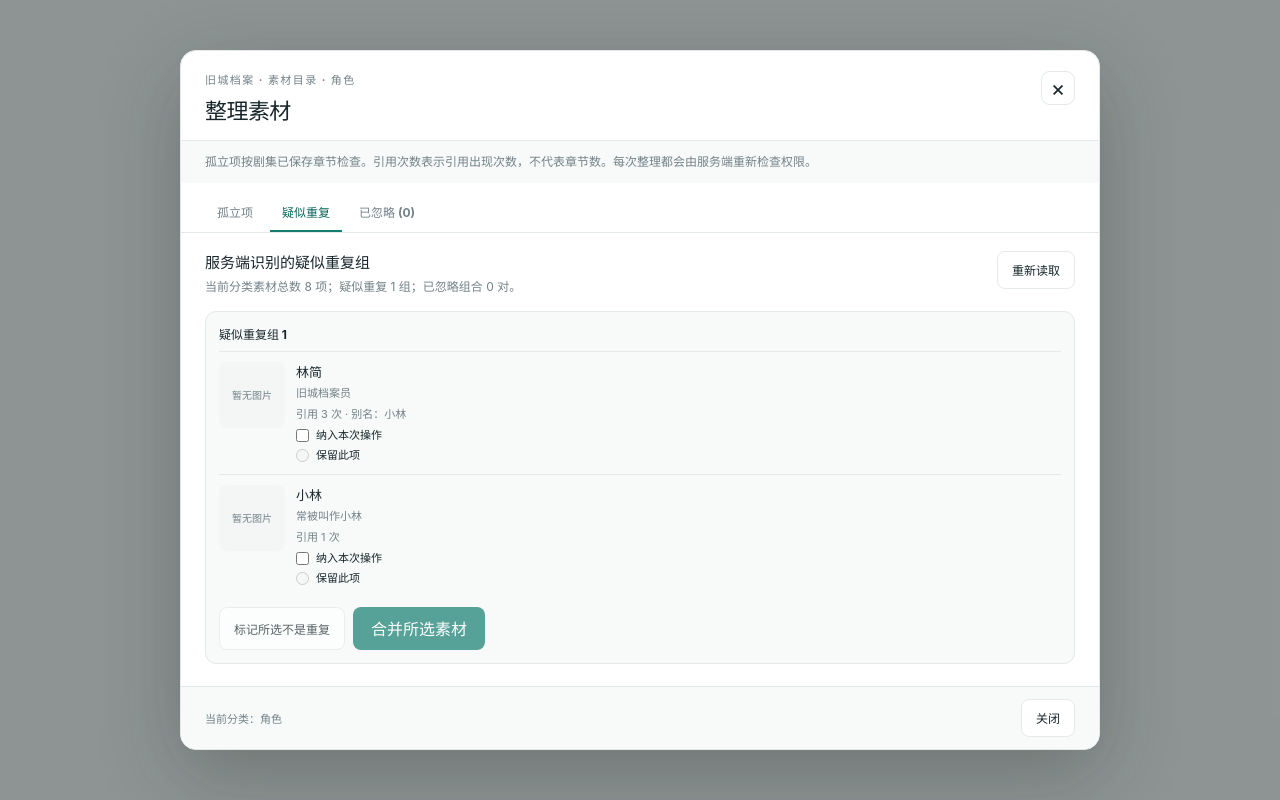
Test: asset maintenance dialog › rejects an orphan response after the captured directory becomes stale
The width and height of the screenshot is (1280, 800).
Expected: the text "旧城档案员" is shown, [296,386,351,400]
Click the tab "孤立项": (235, 213) [205,194,265,232]
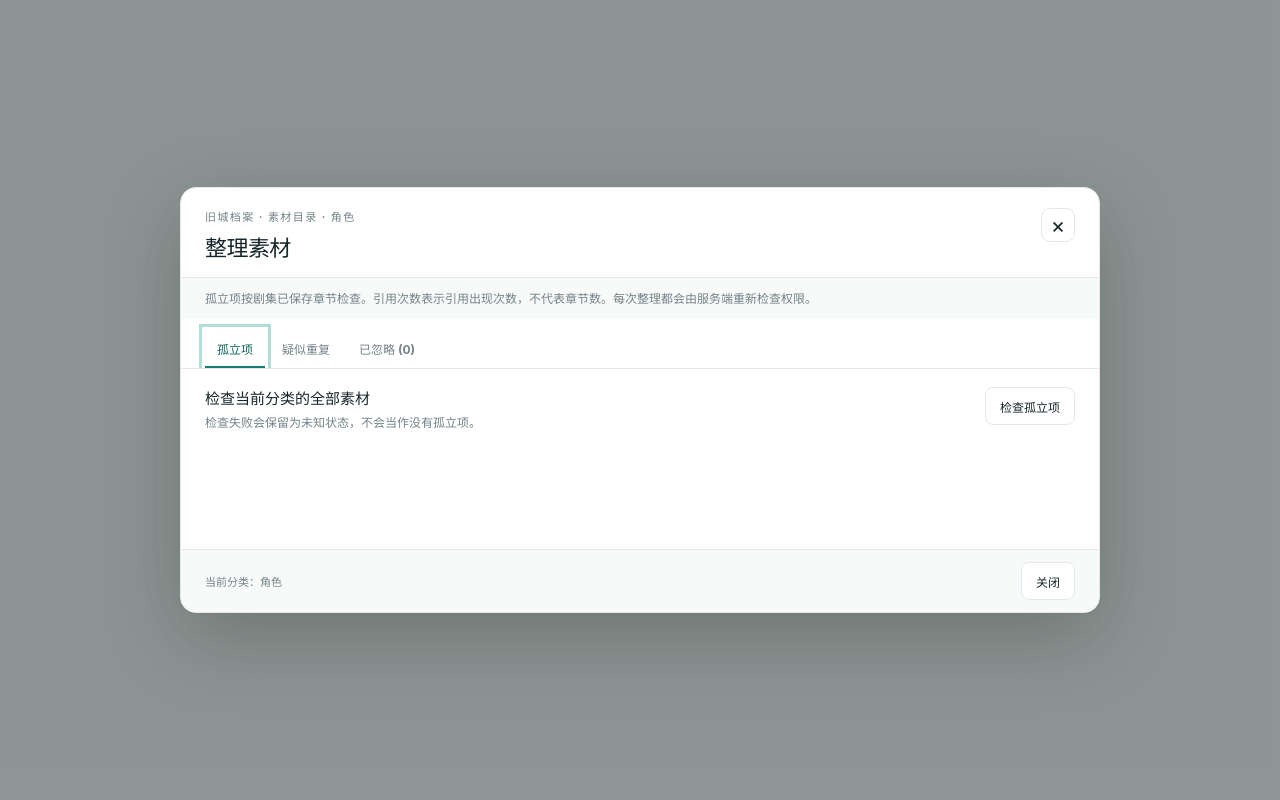
Click the button "检查孤立项": (1030, 406) [985,387,1075,425]
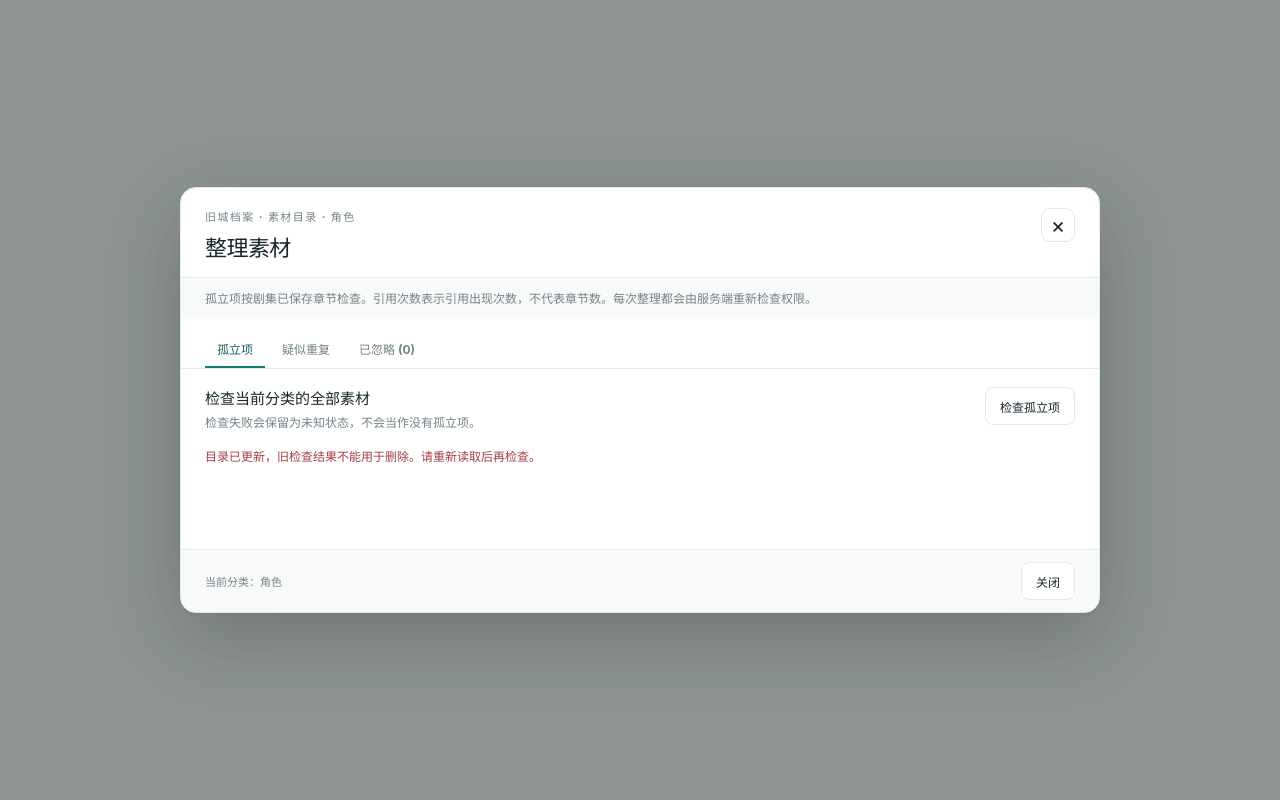
Now the text "目录已更新，旧检查结果不能用于删除。请重新读取后再检查。" is shown, box [205,449,541,464]
